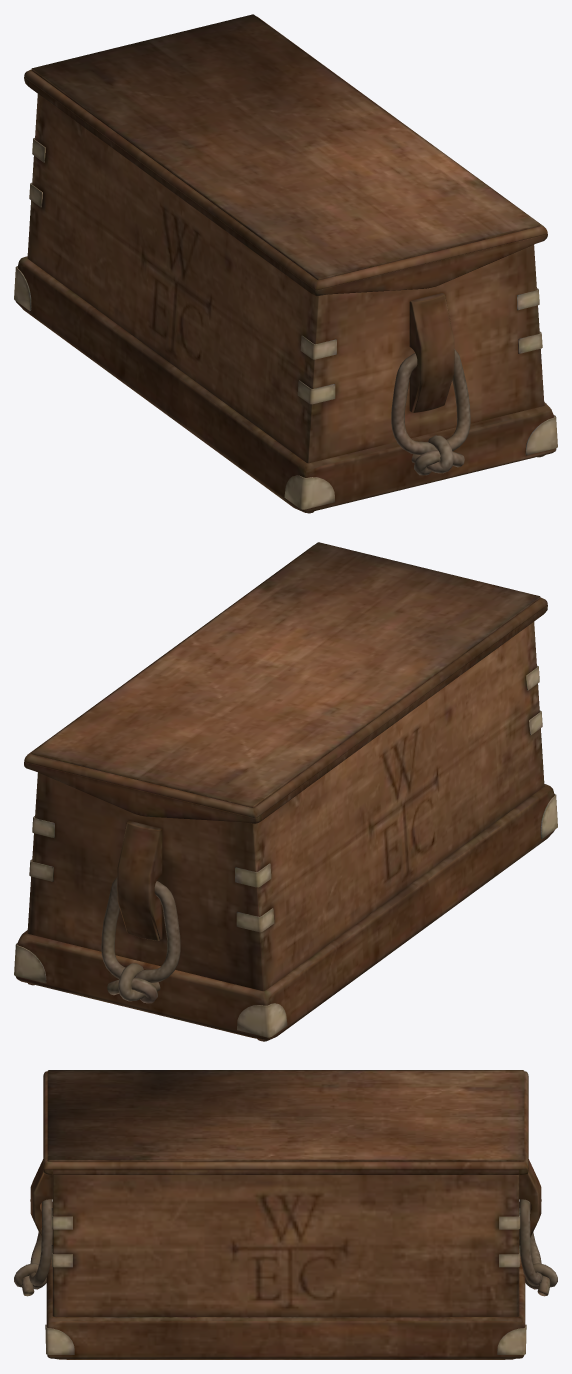
File: wooden_crate_02.glb
3 renders of one model, top to bottom at view 1: azimuth 30°, elevation 25°; view 2: azimuth 150°, elevation 25°; view 3: azimuth 270°, elevation 25°, orthographic. The views are drawn at different scales.
Parts seen in each view (by area): view 1: wooden_crate_02_crate, wooden_crate_02_lid; view 2: wooden_crate_02_crate, wooden_crate_02_lid; view 3: wooden_crate_02_crate, wooden_crate_02_lid.
Part boxes in pixels (x1=…): wooden_crate_02_crate: x1=14, y1=94, x2=557, y2=513; wooden_crate_02_lid: x1=24, y1=14, x2=547, y2=296; wooden_crate_02_crate: x1=14, y1=621, x2=557, y2=1041; wooden_crate_02_lid: x1=24, y1=542, x2=547, y2=823; wooden_crate_02_crate: x1=14, y1=1159, x2=557, y2=1359; wooden_crate_02_lid: x1=43, y1=1070, x2=528, y2=1174.
Size of the model in its own units: 0.5291 by 0.464 by 1.17.
1 material, 1 textured.
